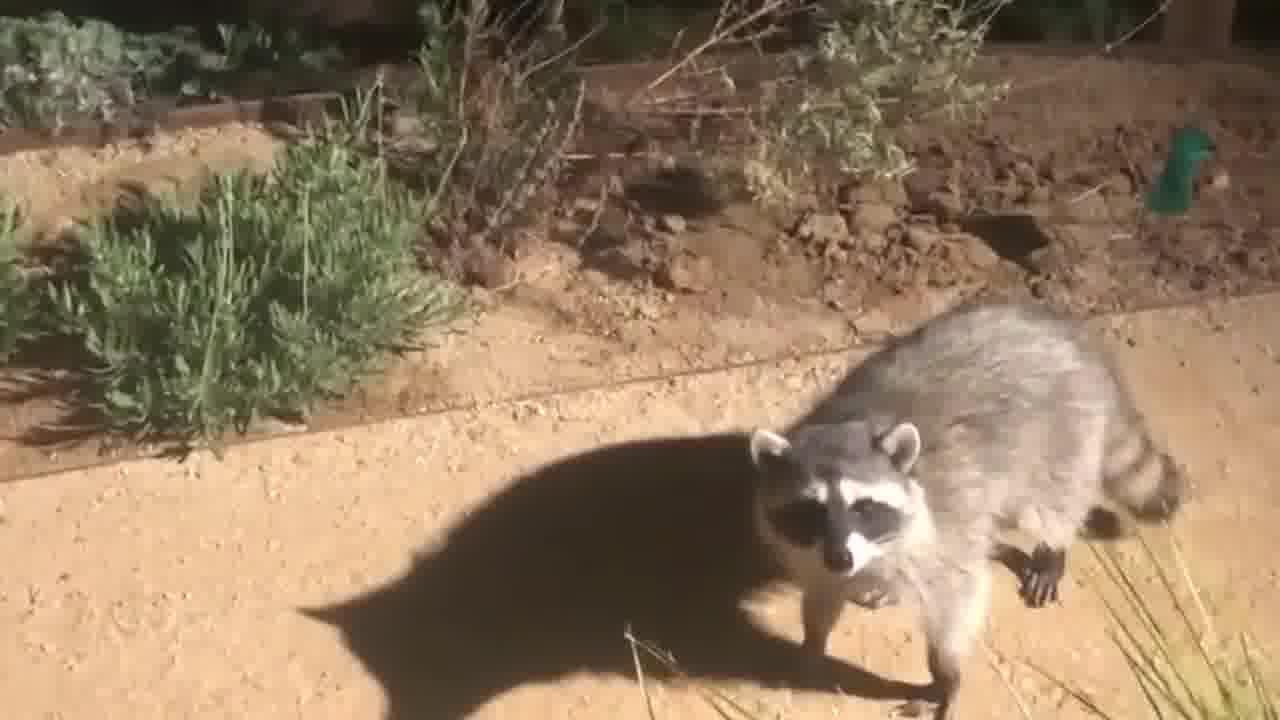raccoon: (753, 290, 1188, 716)
